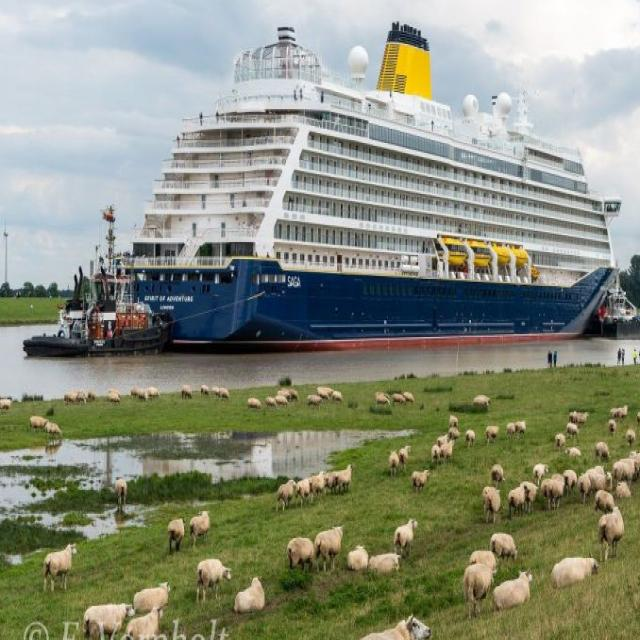cruises: (113, 18, 622, 361)
